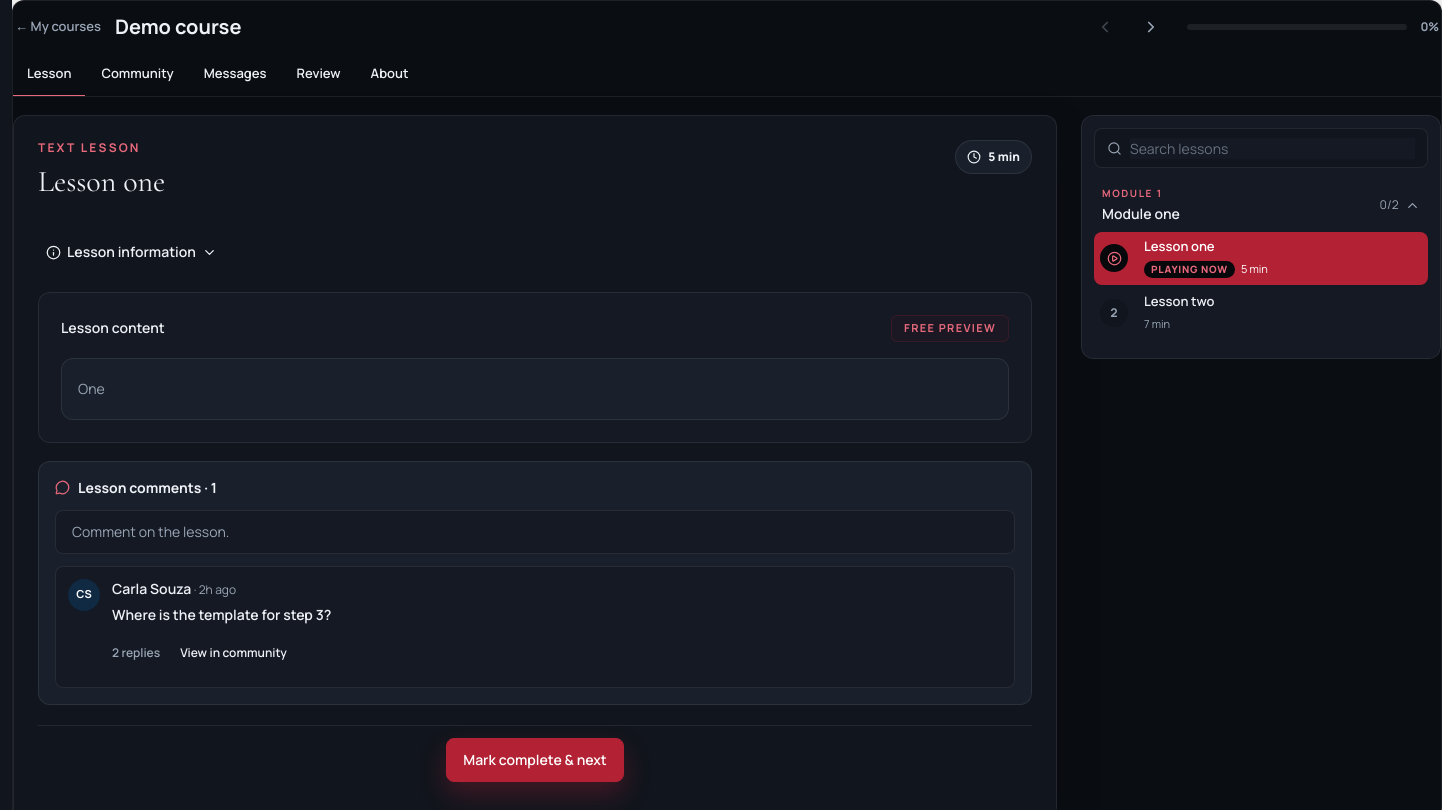
Test: comentarios da aula sob o player › trocar de aula troca a lista sem reabrir o canal (um canal por curso)
Check: the element "Lesson comments · 1" is shown, box [38,460,1032,704]
Click the button named "Next lesson: Lesson two". click: (1151, 27)
box: [1129,5,1173,49]
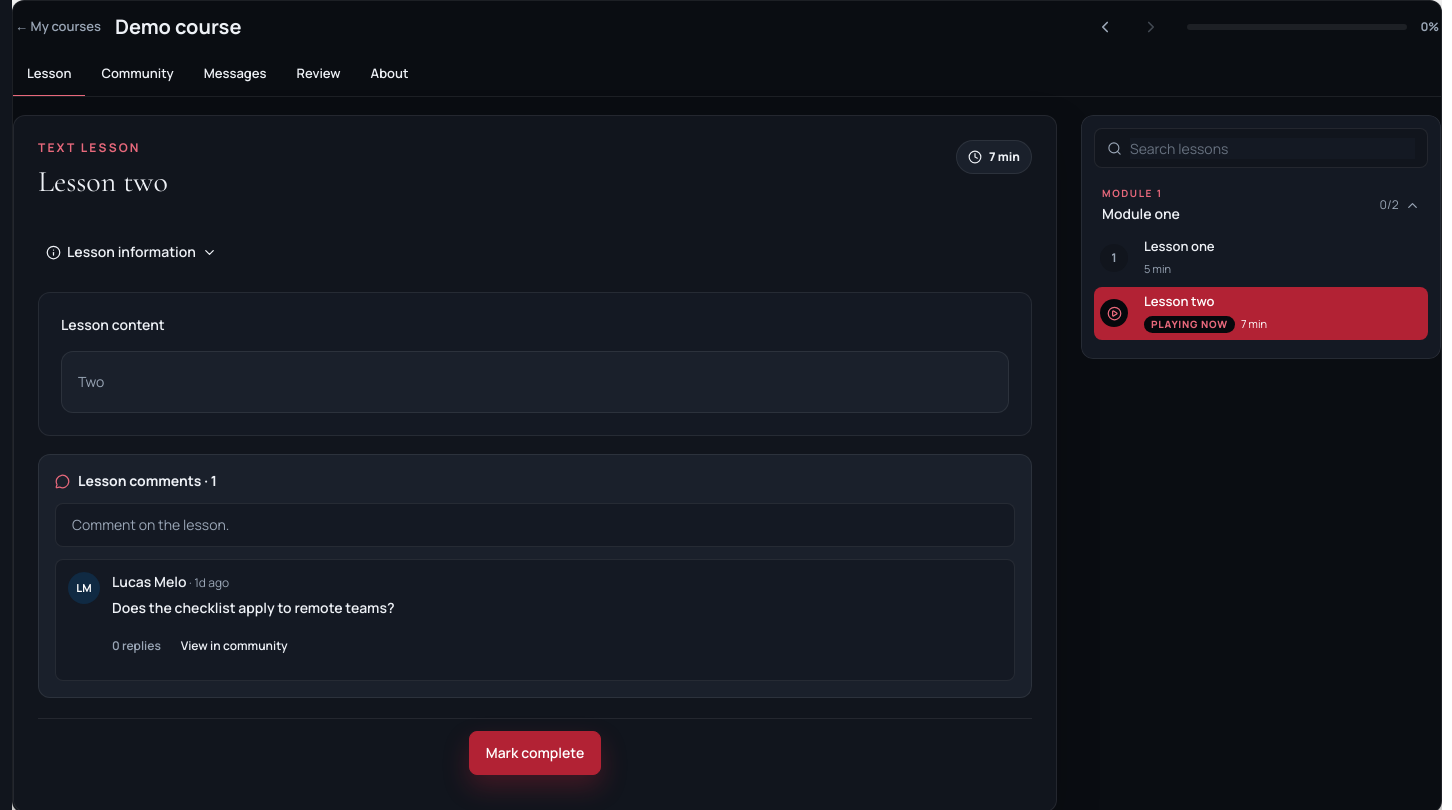
Check: the text "Lucas Melo" is shown, box [112,572,187,591]
Check: the text "Does the checklist apply to remote teams?" is shown, box [112,598,395,617]
Check: the text "0 replies" is shown, box [112,638,161,654]
